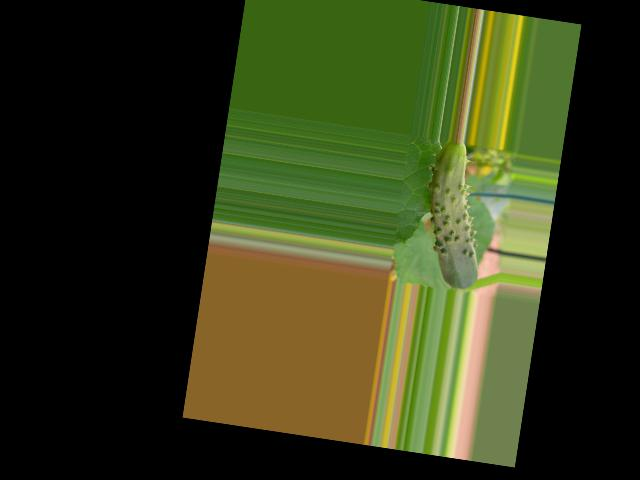cucumber: (413, 139, 496, 292)
